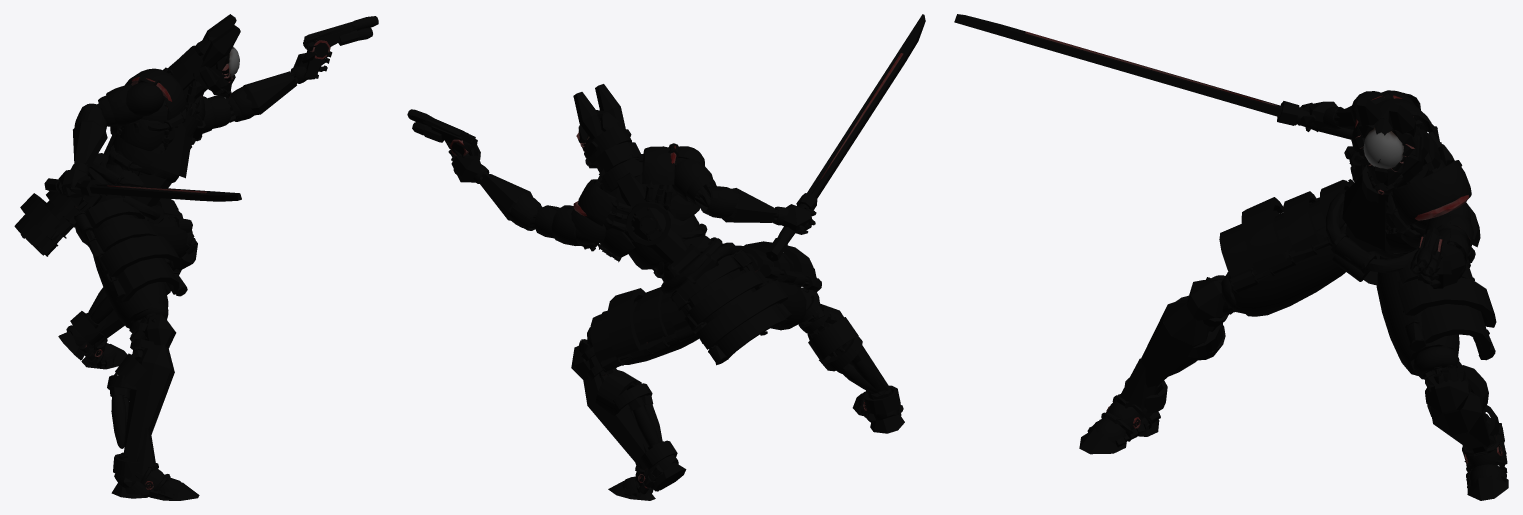
3 renders of one model, left to right at view 1: azimuth 30°, elevation 25°; view 2: azimuth 150°, elevation 25°; view 3: azimuth 270°, elevation 25°, orthographic. The views are drawn at different scales.
Parts seen in each view (by area): view 1: ( Print 3D ) ANUBIS; view 2: ( Print 3D ) ANUBIS; view 3: ( Print 3D ) ANUBIS.
Boxes of the visible parts, <box> form: ( Print 3D ) ANUBIS: <box>14,14,378,500</box>; ( Print 3D ) ANUBIS: <box>407,14,925,500</box>; ( Print 3D ) ANUBIS: <box>954,14,1508,500</box>.
Size of the model in its own units: 2.13 by 1.94 by 2.17.
